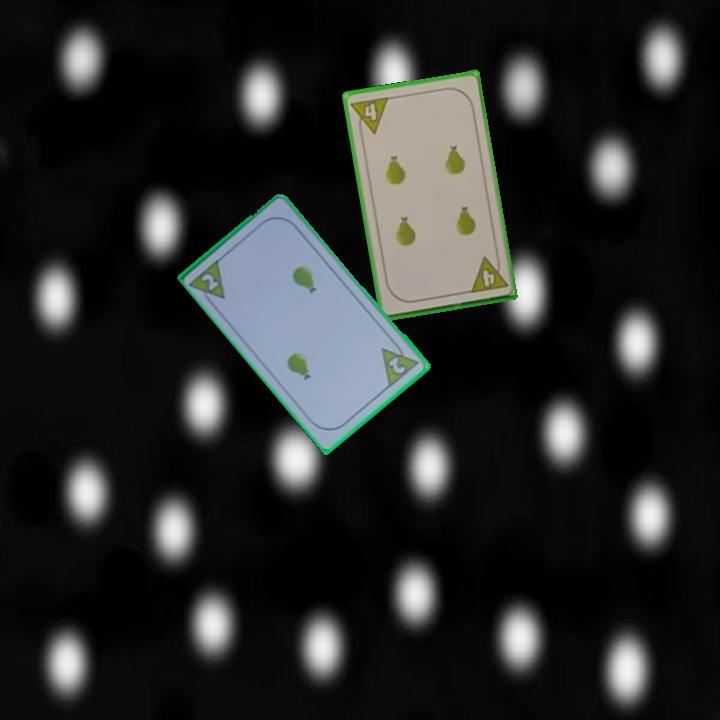2p: (385, 353, 409, 377), (198, 270, 222, 294)
4p: (347, 93, 392, 138), (466, 252, 510, 296)
